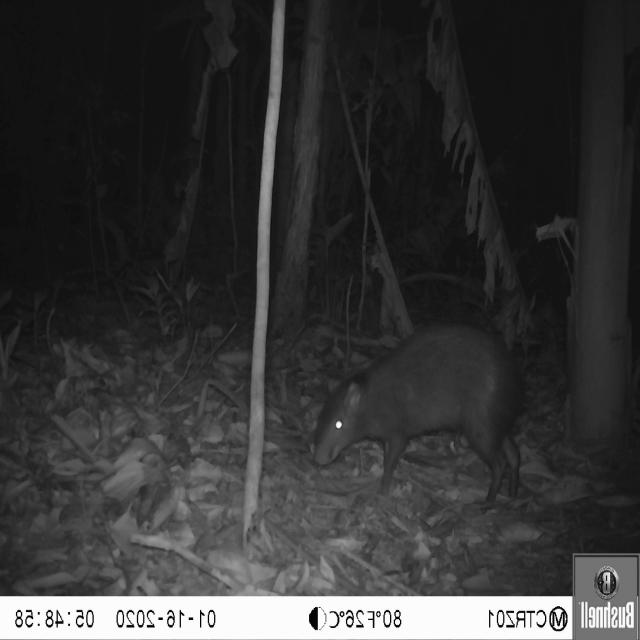Black Agouti: (298, 308, 539, 516)
